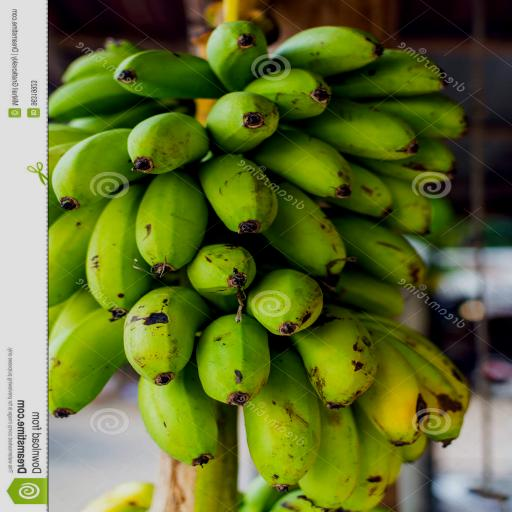banana-unripe: (51, 13, 484, 512)
